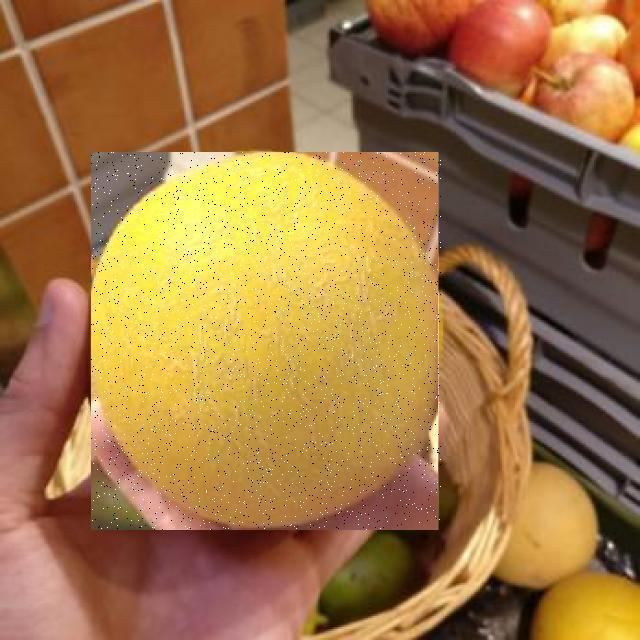Galia: (92, 152, 442, 530)
